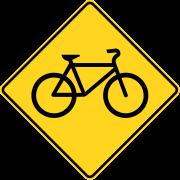Cycle Crossing: (24, 24, 159, 148)
